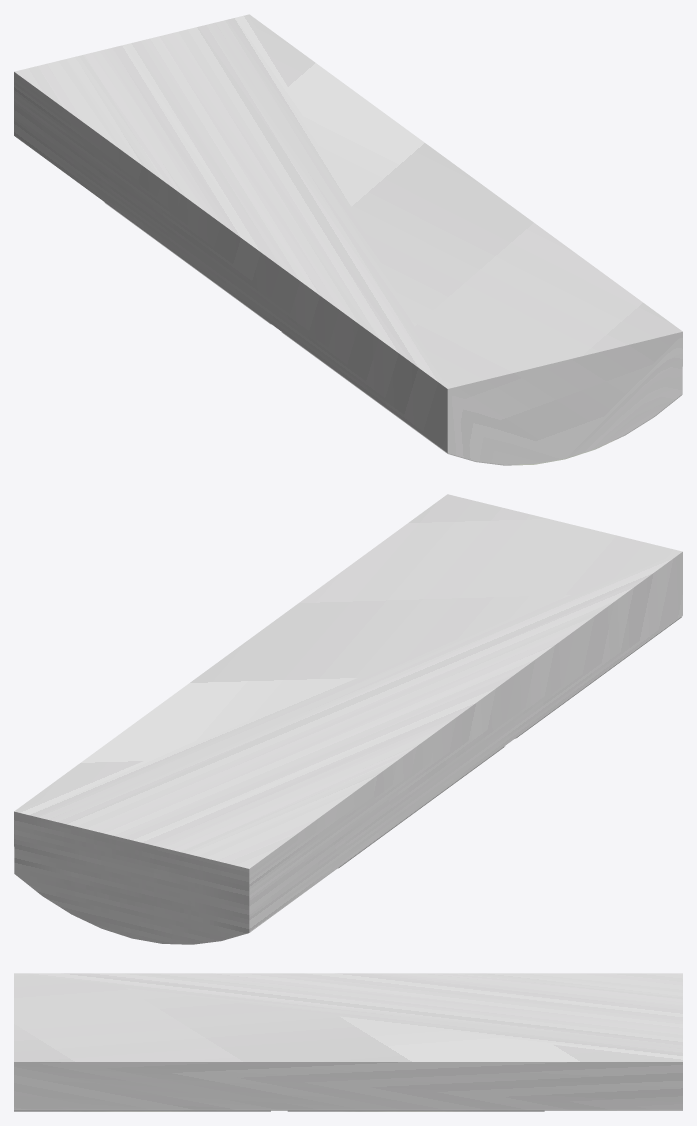
File: RoadLight7.obj
3 views of the same model, one above another, from view 1: azimuth 30°, elevation 25°; view 2: azimuth 150°, elevation 25°; view 3: azimuth 270°, elevation 25° (orthographic). The views are drawn at different scales.
Size of the model in its own units: 0.9406 by 0.378 by 3.
